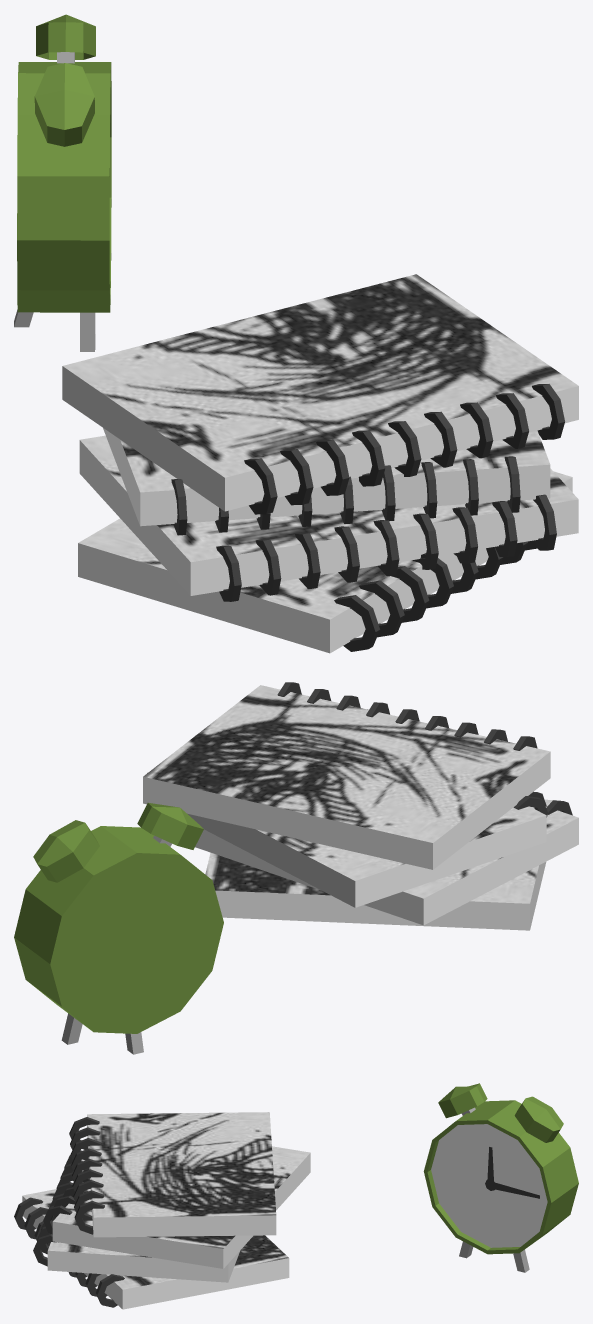
File: Clocks_Notes.fbx
3 renders of one model, top to bottom at view 1: azimuth 30°, elevation 25°; view 2: azimuth 150°, elevation 25°; view 3: azimuth 270°, elevation 25°, orthographic. The views are drawn at different scales.
Visible parts, largest first — view 1: Cube.076; view 2: Cube.076; view 3: Cube.076.
Boxes of the visible parts, x1,y1,x2,y2 form: Cube.076: (14, 14, 578, 653); Cube.076: (14, 682, 578, 1054); Cube.076: (14, 1083, 578, 1309).
Bounding box in the file's own units: 29.54 × 18 × 54.23.
Materials: 5 (1 with a texture image).
